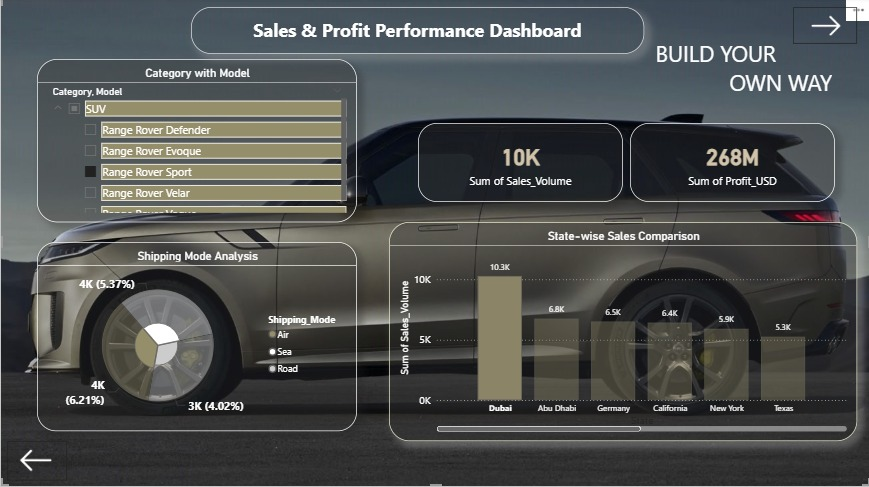

This screenshot's page, from the dashboard's own definition file:
{"tool":"powerbi","page":{"name":"Page 3","canvas":[1280,720],"ordinal":2},"visuals":[{"type":"image","box":[0,0,1280.3,720],"z":0},{"type":"columnChart","title":"State-wise Sales Comparison","fields":{"Category":["Range_Rover_3000_Dataset_With_Transmission_Fuel.State"],"Y":["Sum(Range_Rover_3000_Dataset_With_Transmission_Fuel.Sales_Volume)"]},"box":[571.6,330.6,687.7,321.8],"z":1000},{"type":"pieChart","title":"Shipping Mode Analysis","fields":{"Category":["Range_Rover_3000_Dataset_With_Transmission_Fuel.Shipping_Mode"],"Y":["Sum(Range_Rover_3000_Dataset_With_Transmission_Fuel.Sales_Volume)"]},"box":[54.4,360,470.2,277.7],"z":2000},{"type":"textbox","box":[884.9,56.3,343,100.8],"z":3000},{"type":"image","box":[11,652.4,88.1,57.8],"z":4000},{"type":"image","box":[1165.1,14.4,94.3,53.7],"z":5000},{"type":"slicer","title":"Category with Model","fields":{"Values":["Range_Rover_3000_Dataset_With_Transmission_Fuel.Category","Range_Rover_3000_Dataset_With_Transmission_Fuel.Model"]},"box":[54.4,91.1,470.2,239.5],"z":6000},{"type":"card","fields":{"Values":["Sum(Range_Rover_3000_Dataset_With_Transmission_Fuel.Sales_Volume)"]},"box":[614.2,185.1,301.2,116.1],"z":7000},{"type":"card","title":"Profit","fields":{"Values":["Sum(Range_Rover_3000_Dataset_With_Transmission_Fuel.Profit_USD)"]},"box":[925.7,185.1,301.2,116.1],"z":8000},{"type":"textbox","box":[280.7,14.7,665.6,69.1],"z":9000}]}

Visuals, with their boxes in screenshot pixels (x1, y1, x2, y2), scaled from the page's 1280x720 canvas onto the 869x487 screenshot:
image: rect(0, 0, 868, 486)
"State-wise Sales Comparison" columnChart: rect(388, 224, 855, 441)
"Shipping Mode Analysis" pieChart: rect(37, 244, 356, 431)
textbox: rect(601, 38, 834, 106)
image: rect(7, 441, 67, 480)
image: rect(791, 10, 855, 46)
"Category with Model" slicer: rect(37, 62, 356, 224)
card - Sum(Range_Rover_3000_Dataset_With_Transmission_Fuel.Sales_Volume): rect(417, 125, 621, 204)
"Profit" card: rect(628, 125, 833, 204)
textbox: rect(191, 10, 642, 57)
